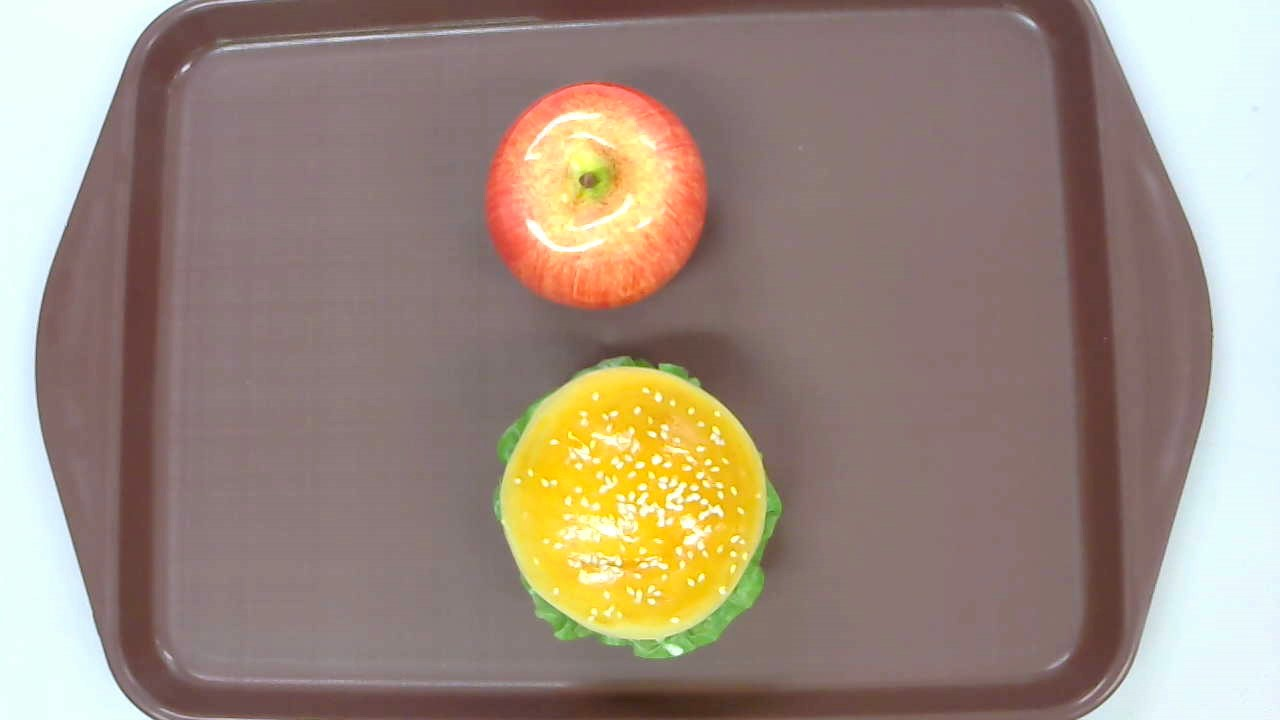hamburger: (489, 356, 783, 661)
red apple: (484, 82, 707, 308)
